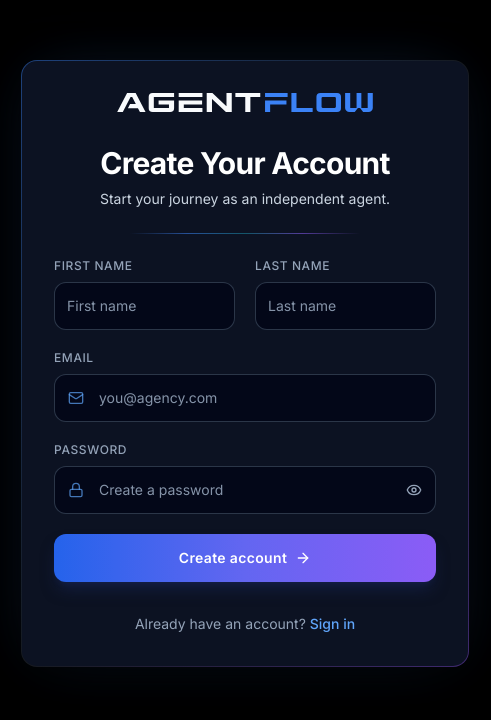
SignupPage (/signup) › standard signup › blocks an empty form and never reaches the auth layer
Click the button "Create account" at (245, 558), box [54, 534, 436, 582]
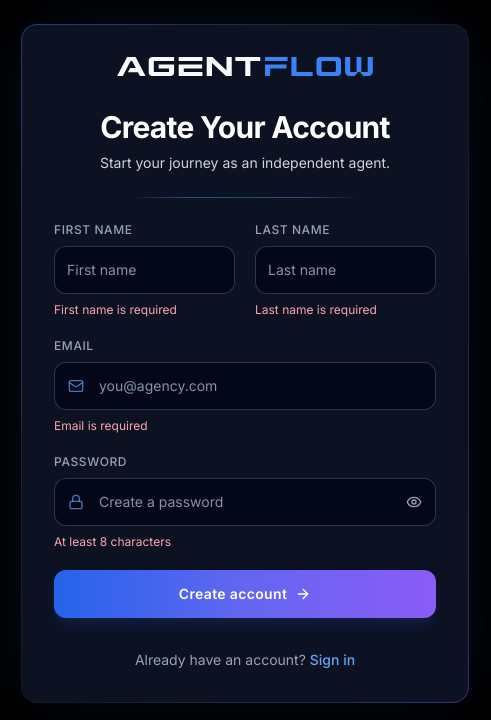
Result: the text "First name is required" is shown at [54, 302, 177, 316]
Result: the text "Last name is required" is shown at [255, 302, 377, 316]
Result: the text "Email is required" is shown at [54, 418, 148, 432]
